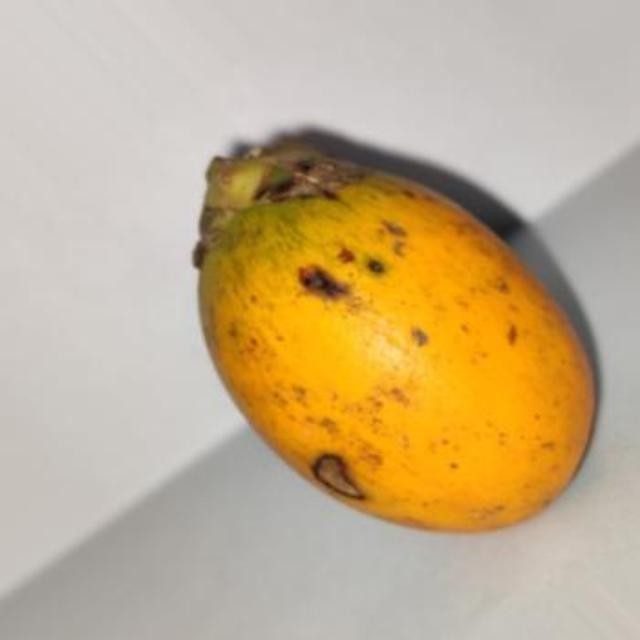good: (194, 141, 598, 536)
